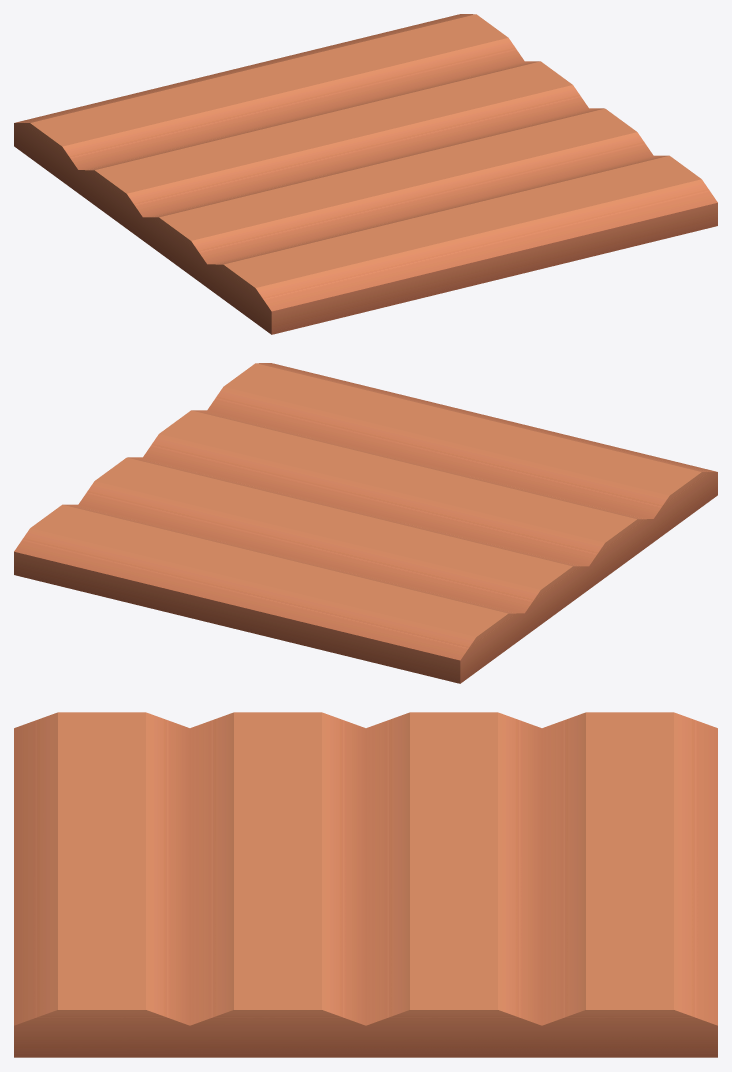
Rendered from floor-wood.glb.
3 renders of one model, top to bottom at view 1: azimuth 30°, elevation 25°; view 2: azimuth 150°, elevation 25°; view 3: azimuth 270°, elevation 25°, orthographic. The views are drawn at different scales.
Parts seen in each view (by area): view 1: floor-wood; view 2: floor-wood; view 3: floor-wood.
Boxes of the visible parts, box(x1,y1,x2,y2) form: floor-wood: box(14, 14, 717, 334); floor-wood: box(14, 363, 717, 683); floor-wood: box(14, 712, 717, 1057).
Bounding box in the file's own units: 1 × 0.075 × 1.
1 material, 1 textured.
